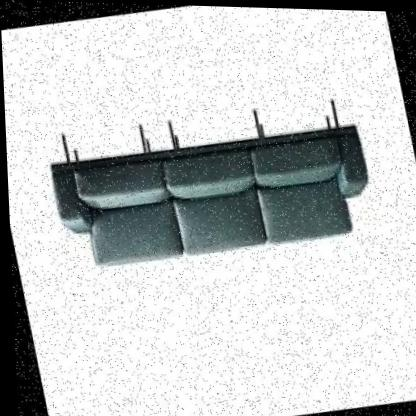Sofa: (20, 61, 395, 301)
